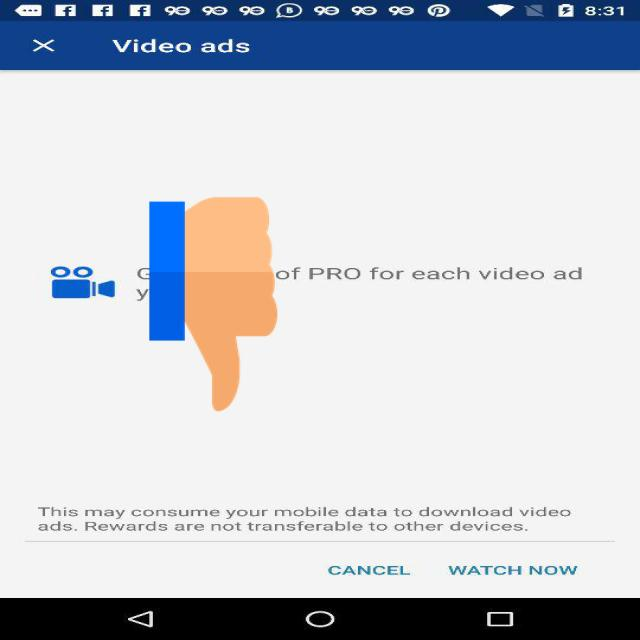obstruction: (150, 192, 278, 417)
